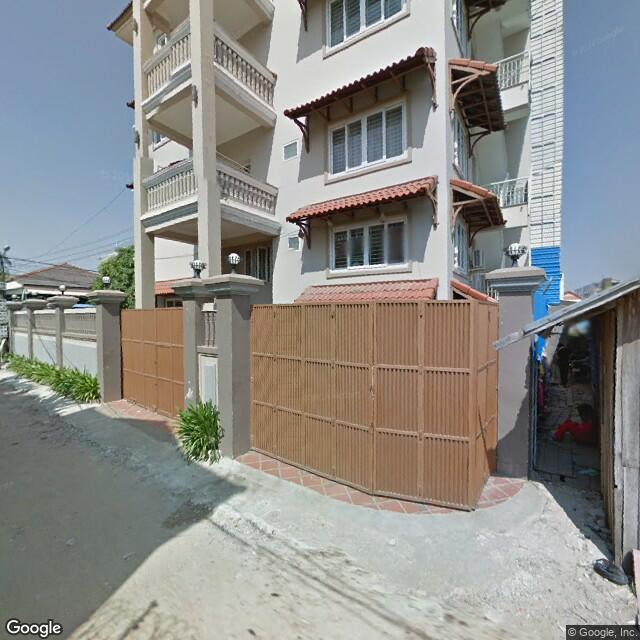litter: (568, 462, 600, 481)
